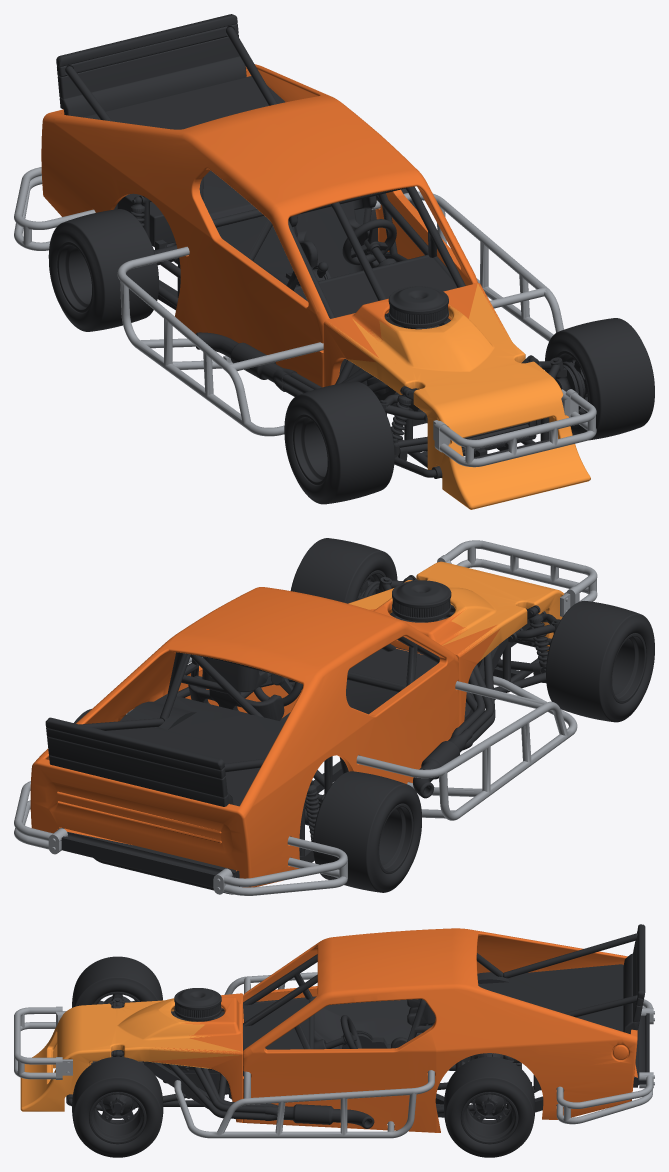
File: TourModifiedDetail300k.fbx
3 views of the same model, one above another, from view 1: azimuth 30°, elevation 25°; view 2: azimuth 150°, elevation 25°; view 3: azimuth 270°, elevation 25° (orthographic). The views are drawn at different scales.
Visible parts, largest first — view 1: BodyPaint, wheel, HoodTrunkPaint, ModifiedMetal, TourModified.Wheel.Ft.R, TourModified.Wheel.Bk.R, TourModified.Wheel.Ft.L; view 2: BodyPaint, wheel, ModifiedMetal, TourModified.Wheel.Ft.R, TourModified.Wheel.Bk.R, HoodTrunkPaint, TourModified.Wheel.Ft.L; view 3: BodyPaint, wheel, HoodTrunkPaint, ModifiedMetal, TourModified.Wheel.Ft.L, TourModified.Wheel.Bk.L, TourModified.Wheel.Ft.R.
Part boxes in pixels (x1,y1,x2,y2): BodyPaint: (41,64,505,387); wheel: (56,14,583,478); HoodTrunkPaint: (328,283,590,509); ModifiedMetal: (14,167,596,467); TourModified.Wheel.Ft.R: (284,381,394,504); TourModified.Wheel.Bk.R: (48,209,158,331); TourModified.Wheel.Ft.L: (545,318,654,440); BodyPaint: (30,587,500,887); wheel: (45,575,560,894); ModifiedMetal: (14,540,597,895); TourModified.Wheel.Ft.R: (546,601,654,722); TourModified.Wheel.Bk.R: (313,771,421,892); HoodTrunkPaint: (349,561,563,661); TourModified.Wheel.Ft.L: (290,538,397,603); BodyPaint: (151,928,637,1132); wheel: (66,924,649,1128); HoodTrunkPaint: (20,994,240,1111); ModifiedMetal: (14,972,654,1138); TourModified.Wheel.Ft.L: (72,1056,163,1157); TourModified.Wheel.Bk.L: (444,1057,535,1157); TourModified.Wheel.Ft.R: (72,956,162,1054).
Bounding box in the file's own units: 133 × 74.66 × 290.
